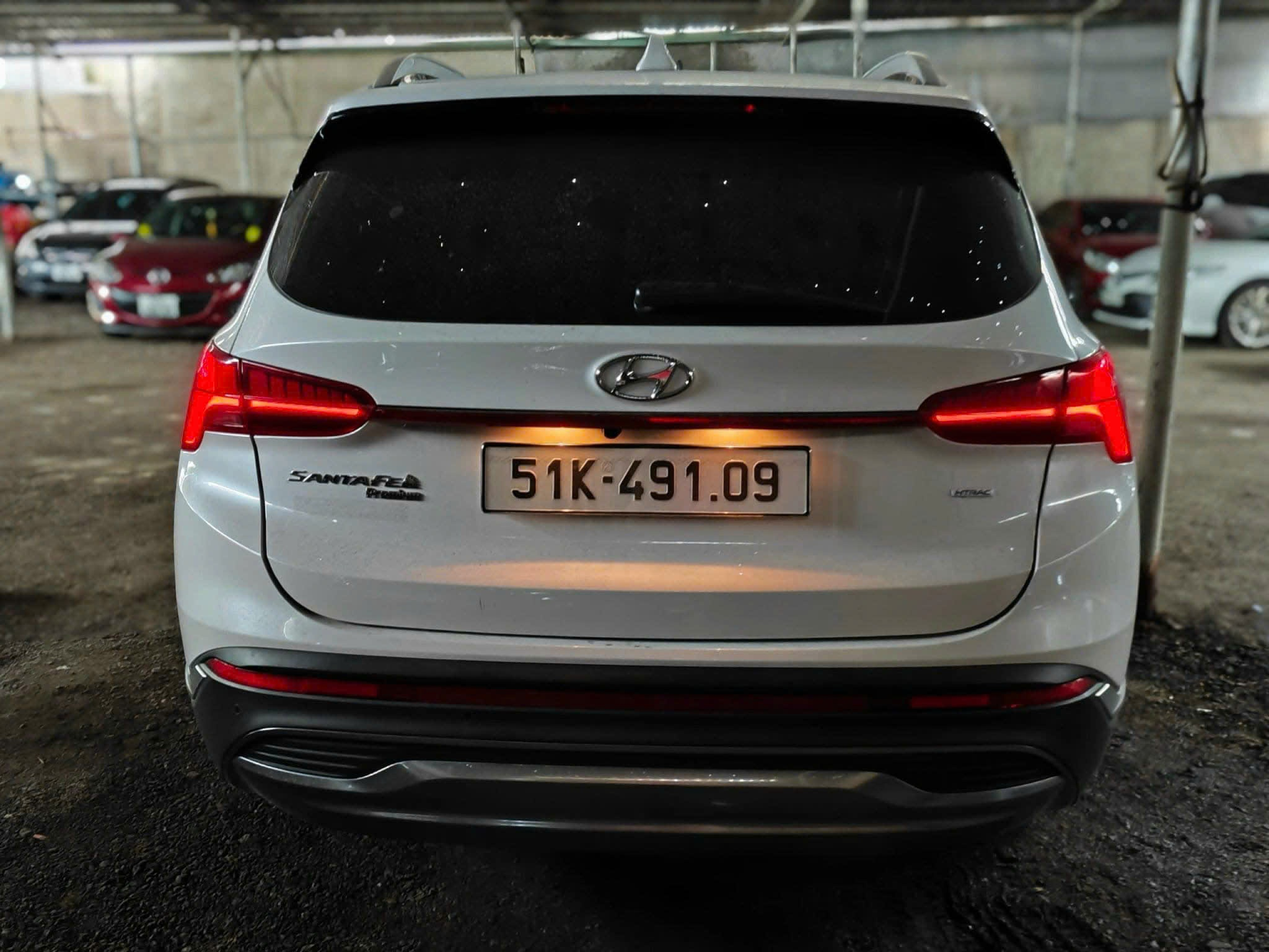Bien-so: (506, 446, 847, 555)
